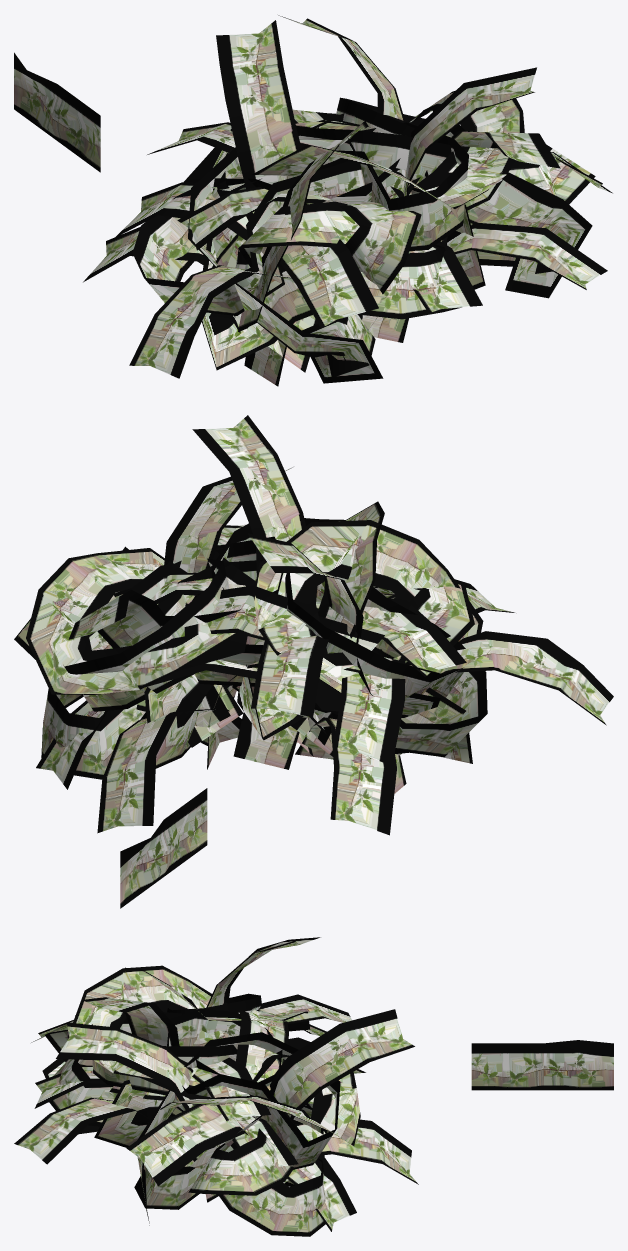
The model's file is ronces_low.fbx.
3 renders of one model, top to bottom at view 1: azimuth 30°, elevation 25°; view 2: azimuth 150°, elevation 25°; view 3: azimuth 270°, elevation 25°, orthographic. The views are drawn at different scales.
Visible parts, largest first — view 1: Plane.002, Plane; view 2: Plane.002, Plane; view 3: Plane.002, Plane.
Part boxes in pixels (x1=…): Plane.002: x1=83, y1=15, x2=612, y2=386; Plane: x1=14, y1=52, x2=100, y2=172; Plane.002: x1=14, y1=415, x2=613, y2=835; Plane: x1=120, y1=788, x2=207, y2=908; Plane.002: x1=14, y1=937, x2=418, y2=1236; Plane: x1=471, y1=1040, x2=613, y2=1090.
Size of the model in its own units: 672 by 361 by 824.
